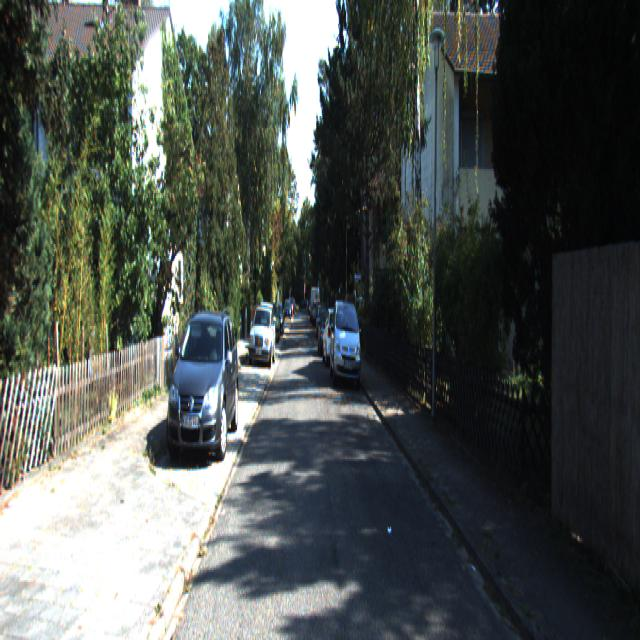Car: (165, 312, 240, 476), (330, 297, 362, 387), (248, 303, 277, 366), (321, 304, 347, 367)
